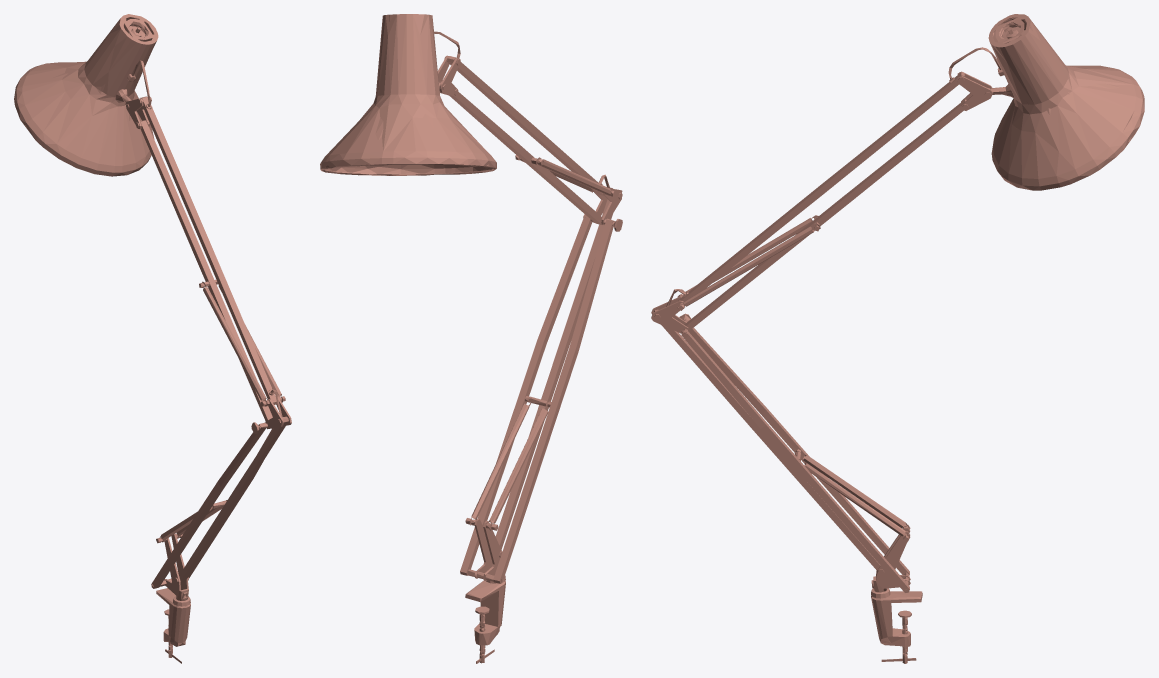
The model's file is desk_lamp_arm_01.glb.
3 views of the same model, side by side, from view 1: azimuth 30°, elevation 25°; view 2: azimuth 150°, elevation 25°; view 3: azimuth 270°, elevation 25° (orthographic). The views are drawn at different scales.
Parts seen in each view (by area): view 1: desk_lamp_arm_01; view 2: desk_lamp_arm_01; view 3: desk_lamp_arm_01.
Part boxes in pixels (x1=…): desk_lamp_arm_01: x1=14, y1=14, x2=291, y2=663; desk_lamp_arm_01: x1=320, y1=14, x2=622, y2=663; desk_lamp_arm_01: x1=651, y1=14, x2=1144, y2=663.
Bounding box in the file's own units: 0.2013 × 0.8926 × 0.6132.
